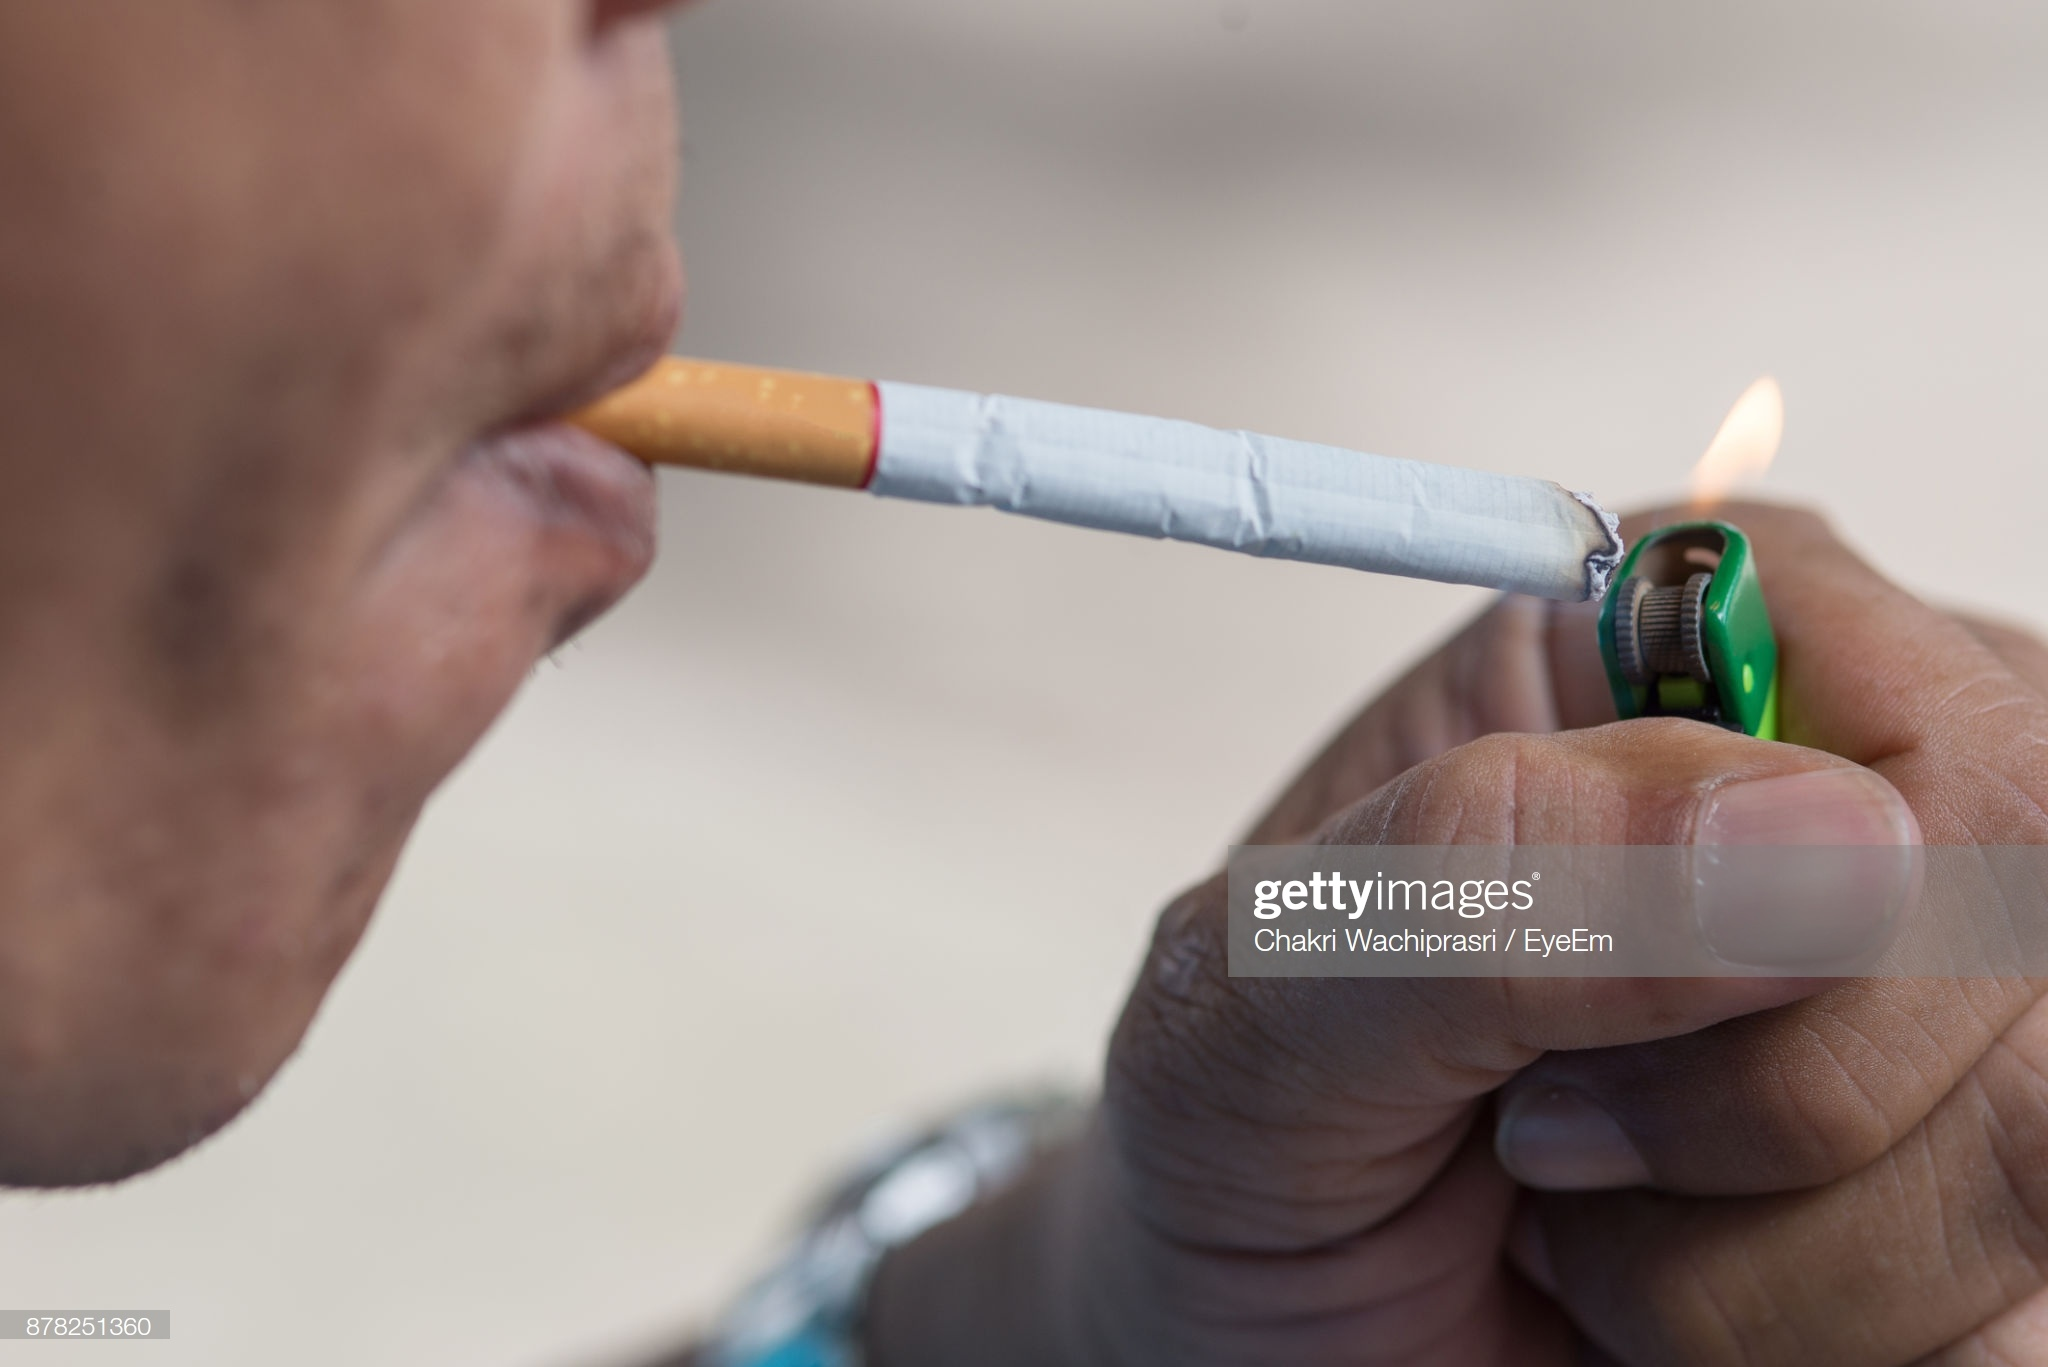sigaretta: (447, 352, 1610, 593)
